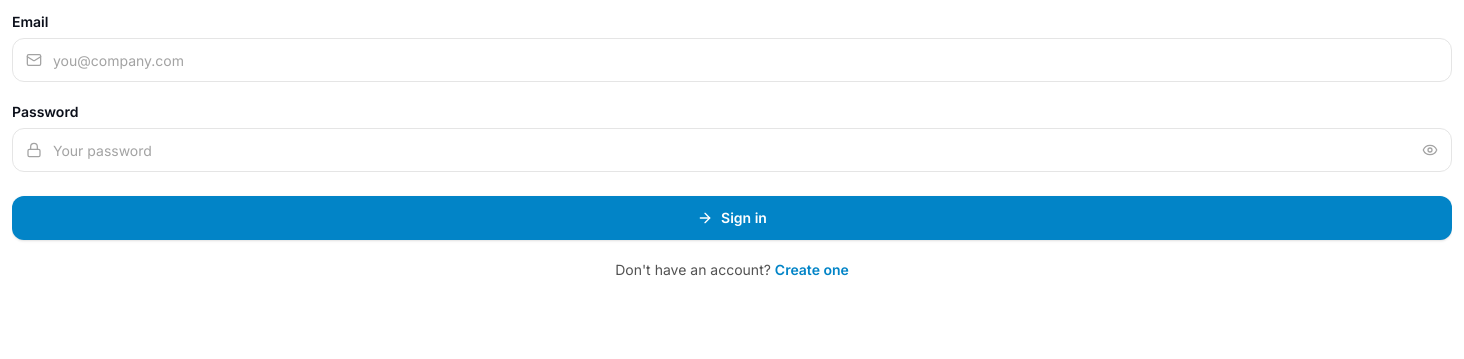
Test: LoginForm › renders the backend's generic invalid_credentials message verbatim and never reveals whether the email exists
Type "a@b.com" into the field labelled "Email".
click(732, 60); type("a@b.com")  # box [12, 38, 1452, 82]
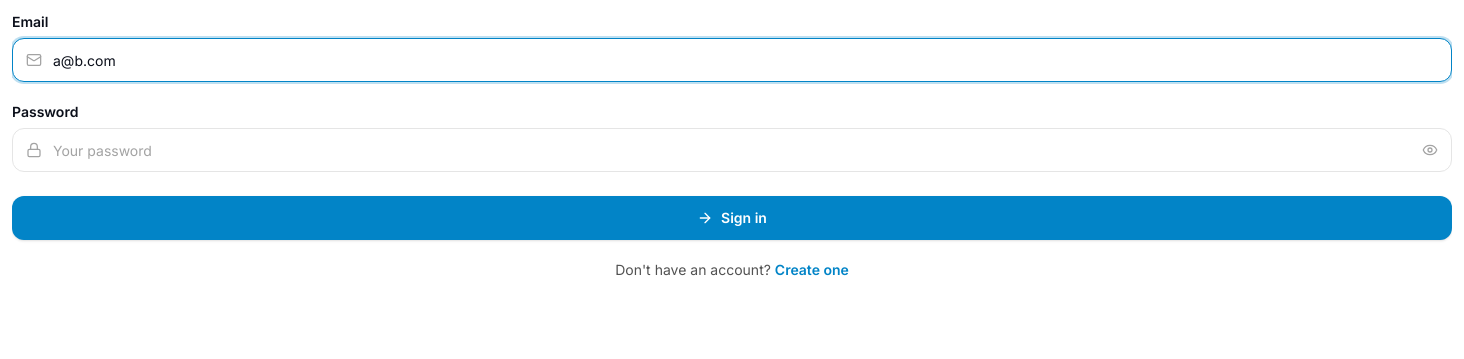
Type "wrongpassword" into the password field labelled "Password".
click(732, 150); type("wrongpassword")  # box [12, 128, 1452, 172]
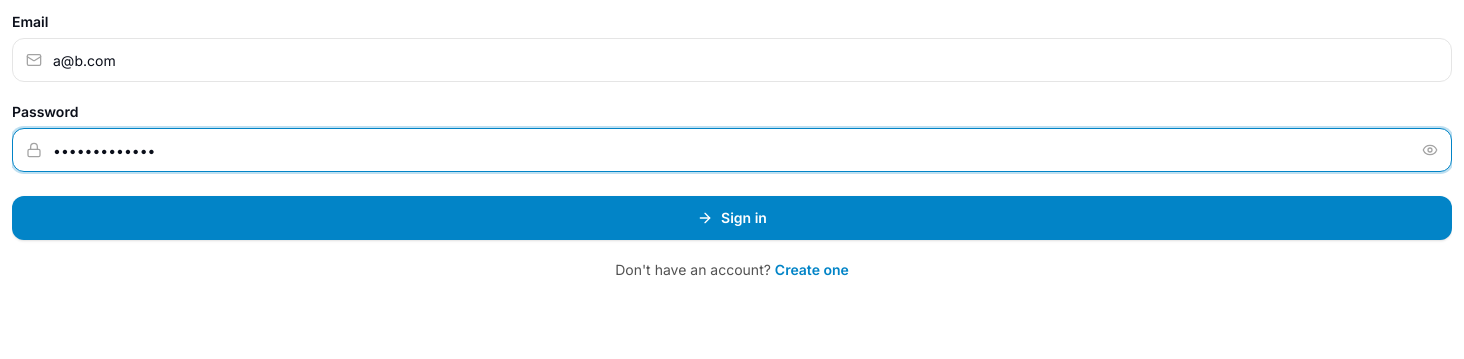
Click the button "Sign in".
click(732, 218)  # box [12, 196, 1452, 240]
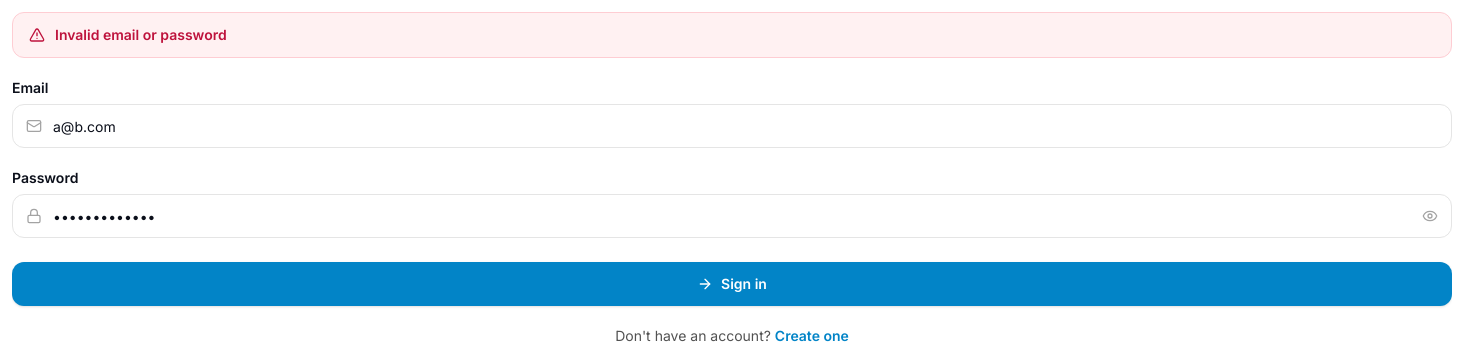
Now the message reads "Invalid email or password", box [55, 26, 227, 43]
